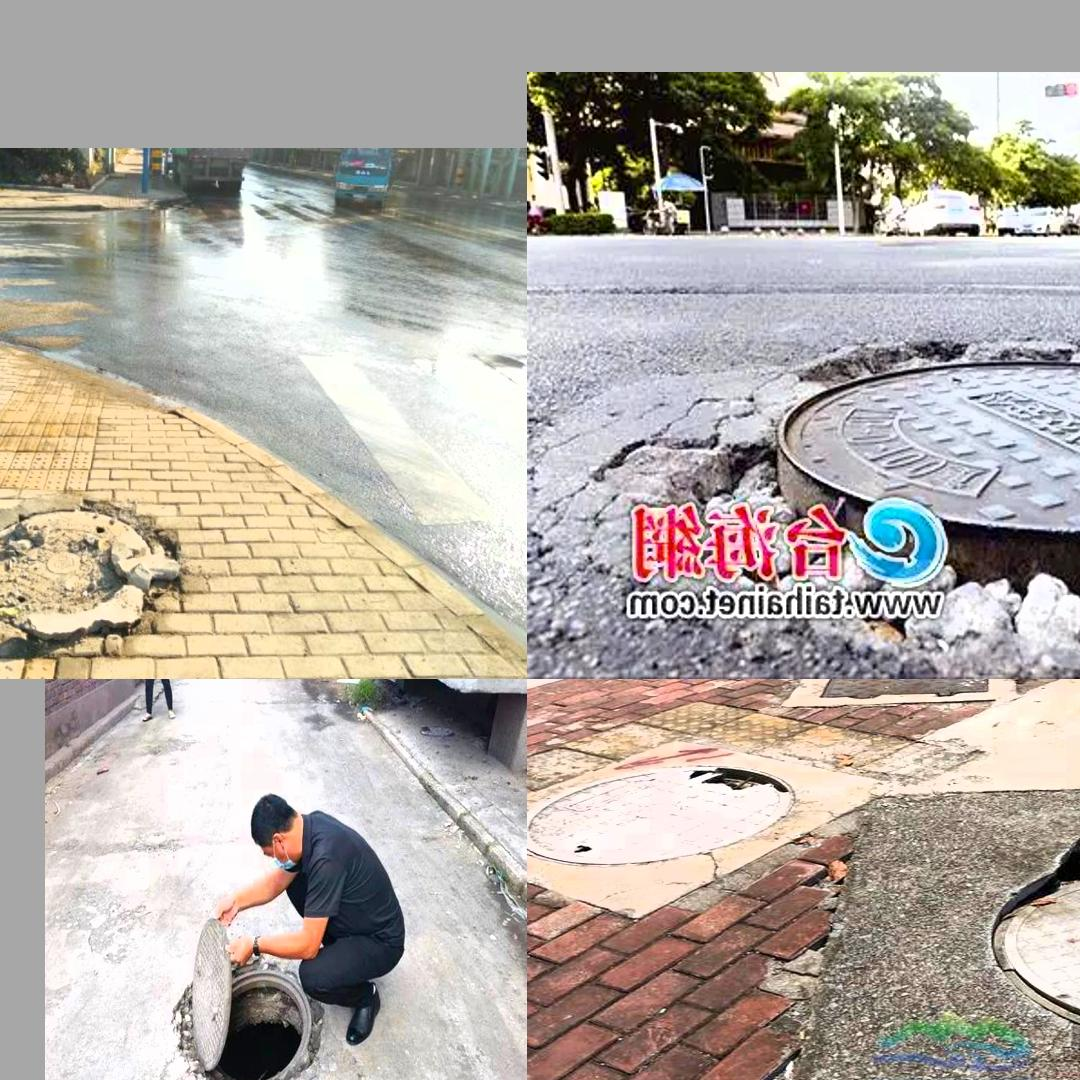circle: (574, 337, 1080, 644), (775, 772, 1080, 1080), (0, 484, 181, 646), (159, 931, 352, 1080)
